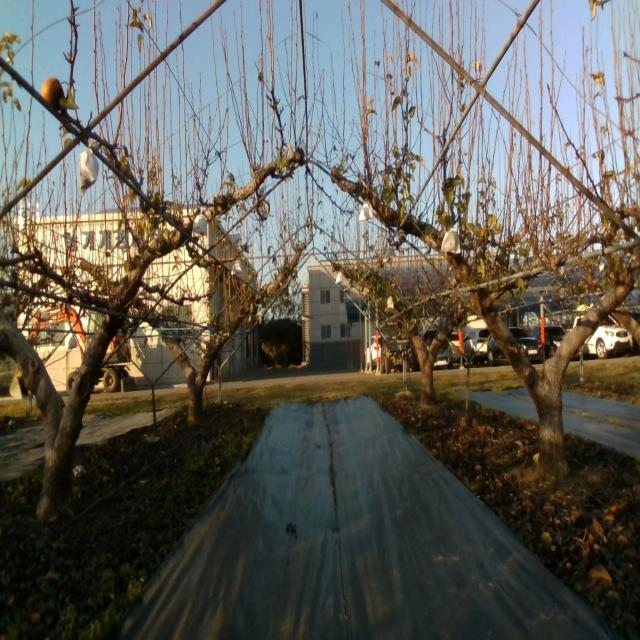pearbags: (79, 138, 100, 196), (440, 227, 461, 255), (191, 207, 208, 238), (358, 200, 374, 222), (383, 239, 396, 263)
